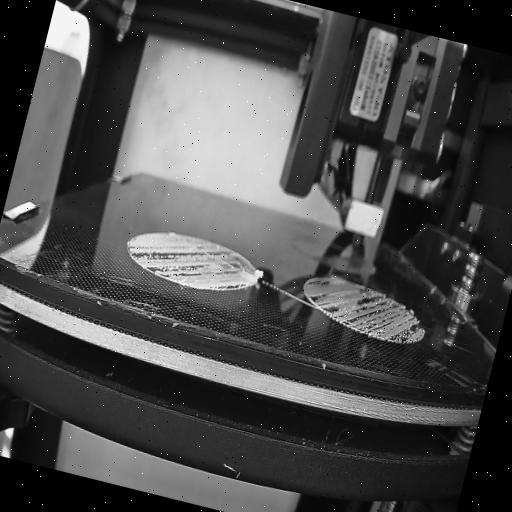under_extrusion: (125, 226, 259, 302), (299, 274, 432, 348)
